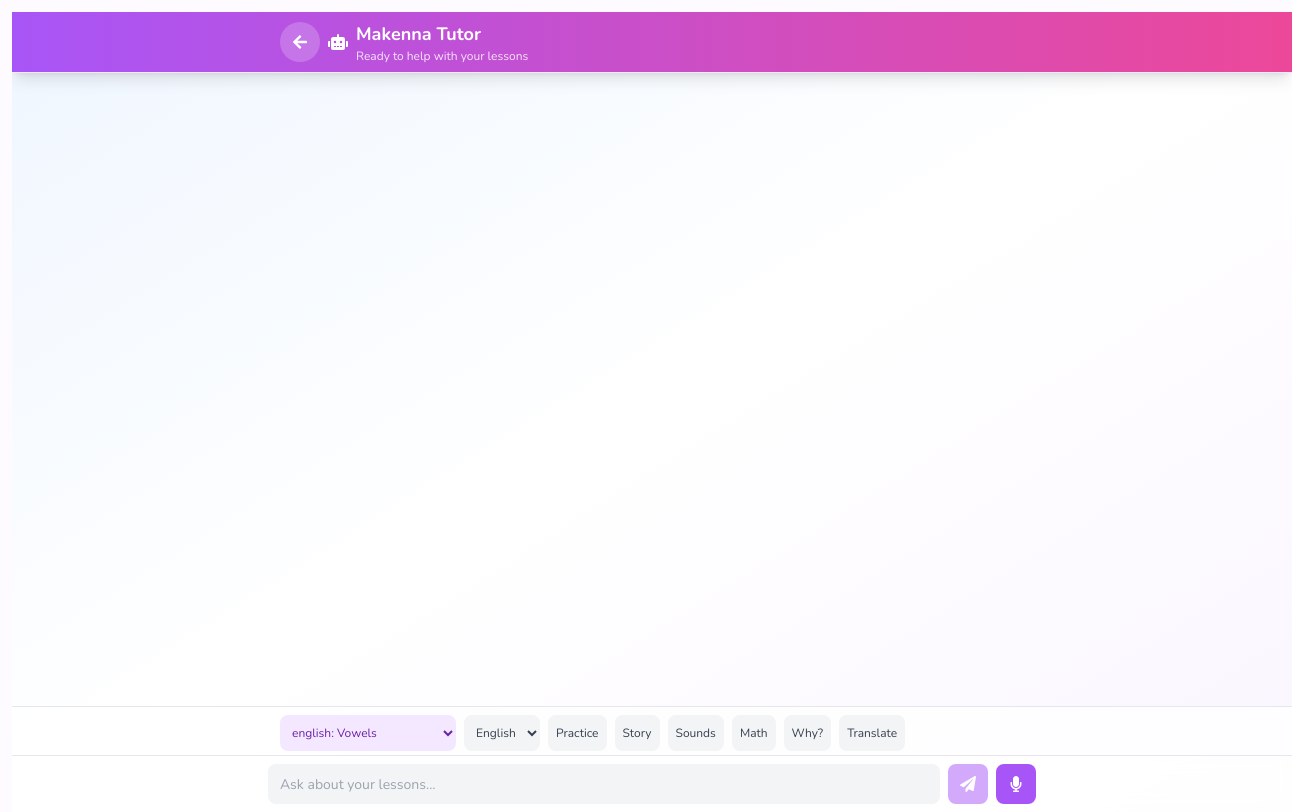
Test: Makenna Tutor page › opens the curriculum lesson matched to the question
In the field labelled "Ask about your lessons": [604, 784] box x1=268 y1=764 x2=940 y2=804, type "Teach me counting"
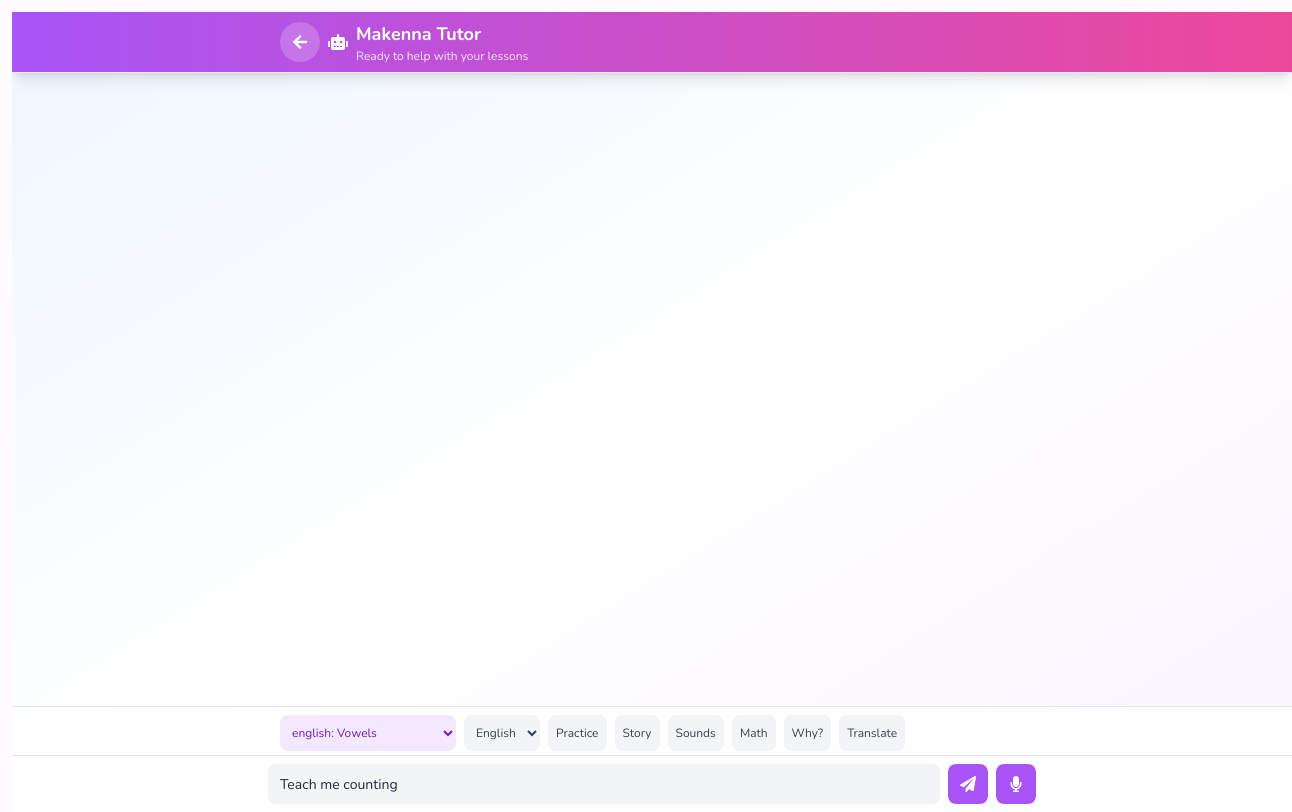
Click the button named "Send question": [968, 784] box x1=948 y1=764 x2=988 y2=804
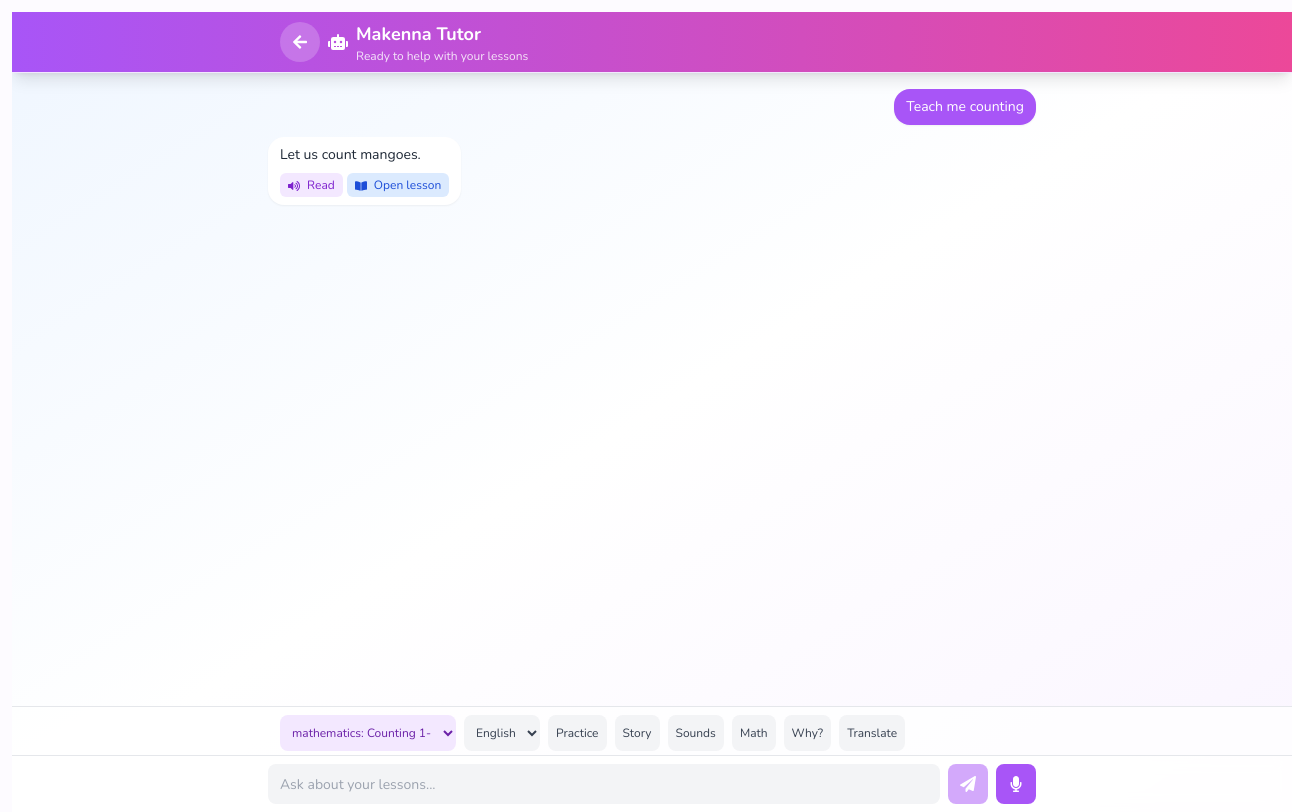
Expected: the text "Let us count mangoes." is shown, x1=280 y1=145 x2=421 y2=164
Click the button "Open lesson": [398, 185] box x1=347 y1=173 x2=449 y2=197
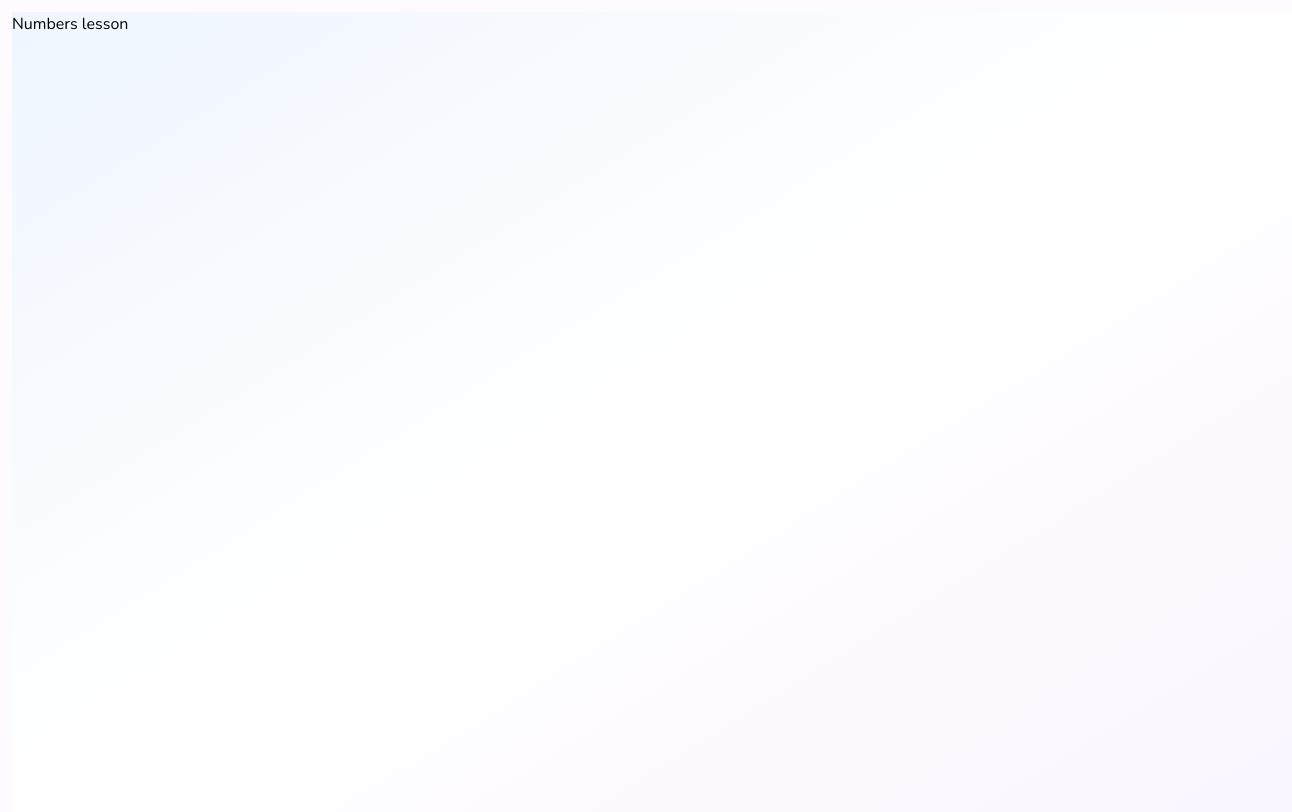
Expected: the text "Numbers lesson" is shown, x1=12 y1=13 x2=128 y2=35
